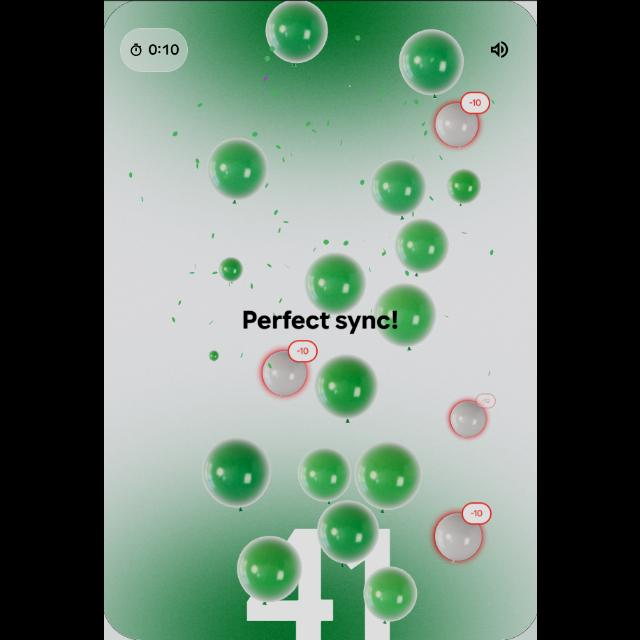hazard: (429, 493, 496, 569), (255, 338, 318, 404), (432, 89, 492, 153), (442, 390, 498, 444)
safe: (196, 435, 280, 513), (229, 530, 307, 610), (255, 0, 337, 70), (394, 26, 466, 100), (371, 279, 439, 353), (358, 438, 422, 516), (203, 134, 274, 203), (316, 349, 380, 425), (302, 250, 371, 318), (363, 158, 435, 222), (309, 498, 376, 566), (358, 562, 424, 630), (391, 216, 453, 278), (294, 446, 356, 504), (444, 168, 482, 208), (212, 255, 244, 288), (203, 345, 220, 365)
